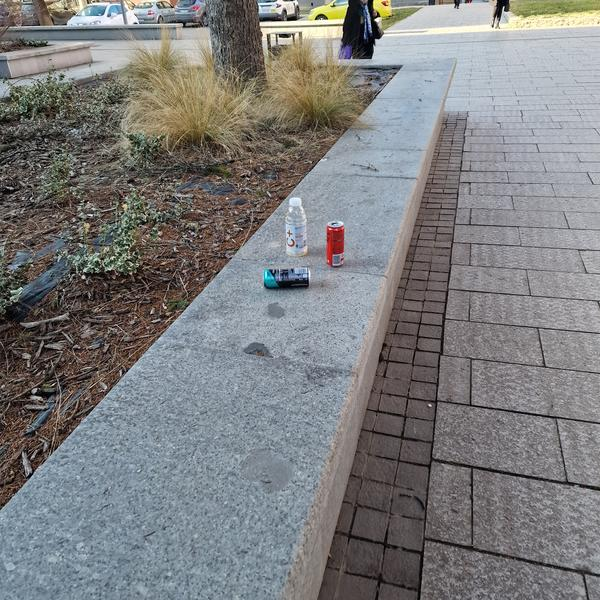can: (262, 266, 312, 290), (326, 221, 345, 267)
plastic_bottle: (285, 197, 307, 257)
